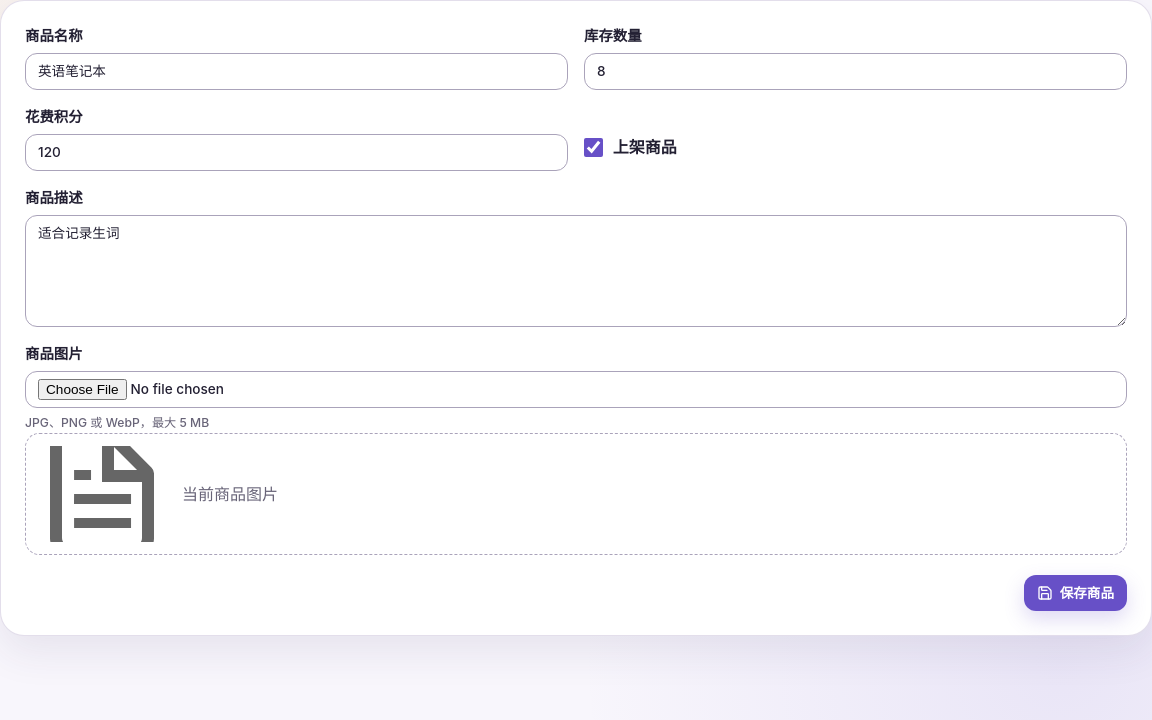
管理员商品表单 › 下架确认失败保留弹窗并展示错误，可重试
Click the checkbox labelled "上架商品": [594, 147] box [584,138,603,157]
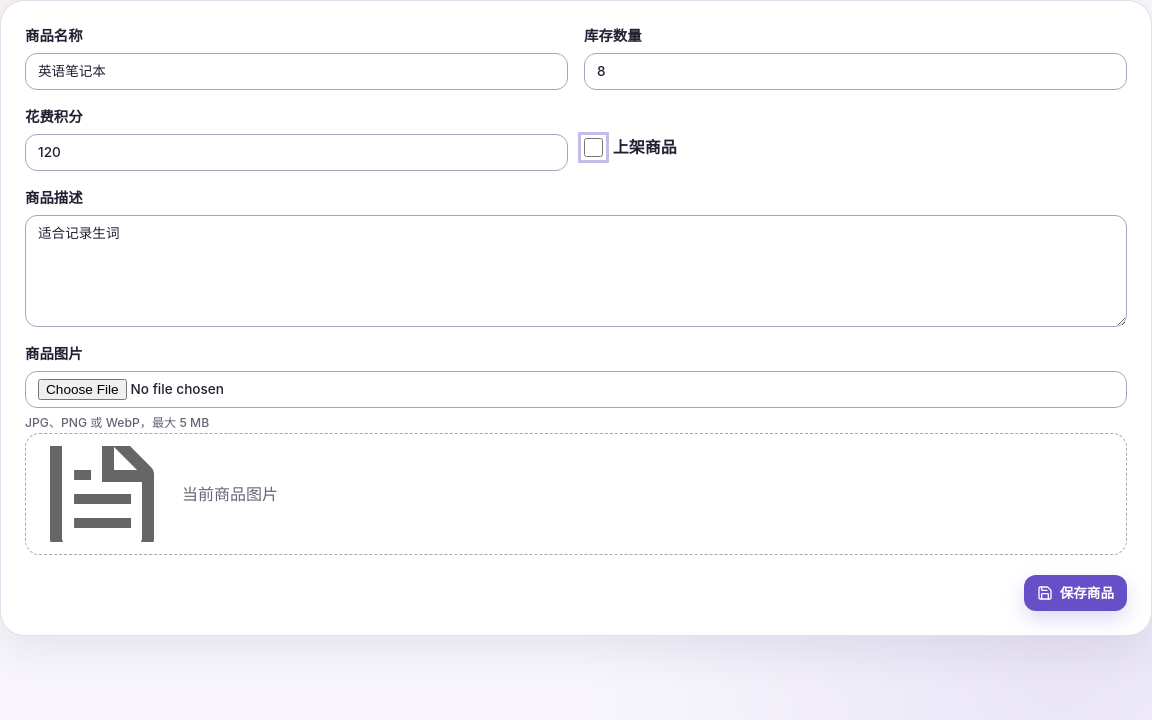
Click the button "保存商品": [1076, 593] box [1024,574,1127,611]
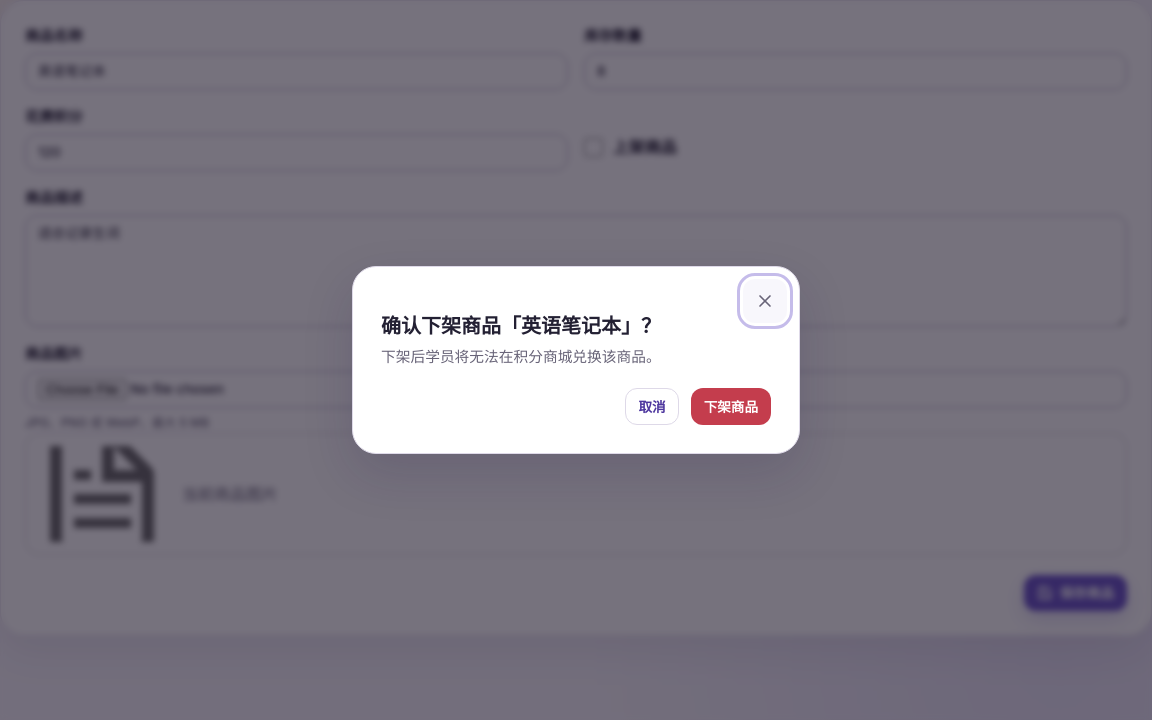
Click the button "下架商品": [731, 407] box [691,388,771,425]
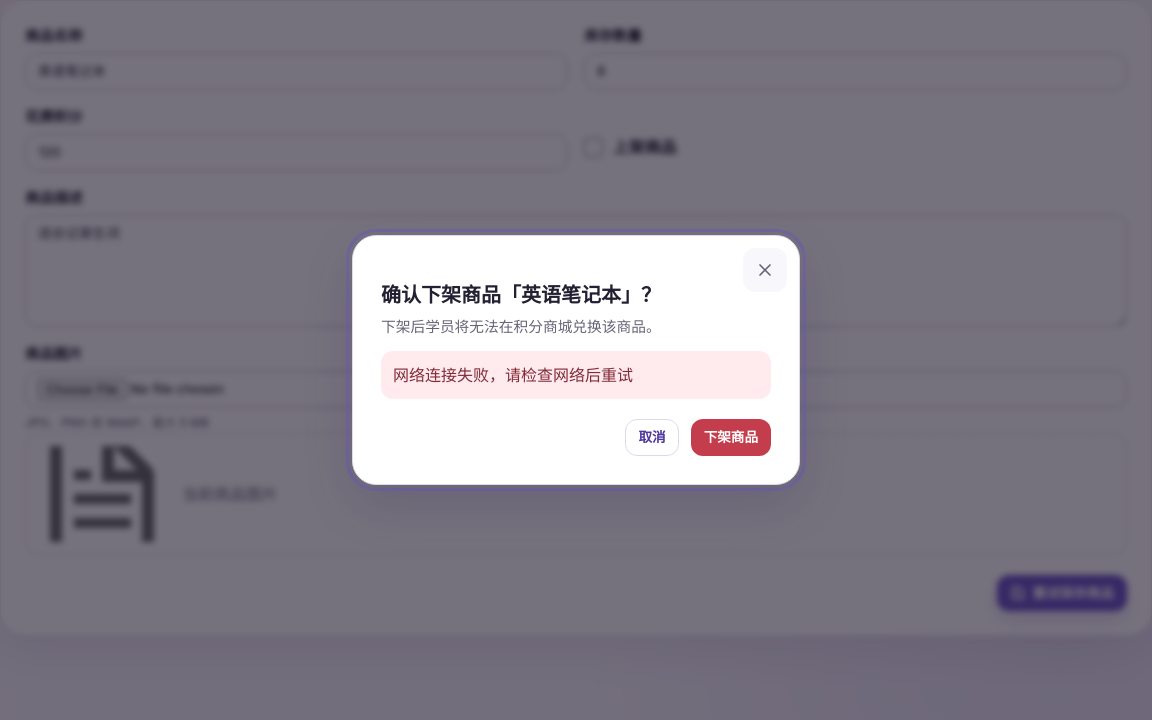
Result: the dialog "确认下架商品「英语笔记本」？" is shown at [352,235,800,485]
Result: the message reads "网络连接失败，请检查网络后重试" at [393,365,633,385]
Click the button "下架商品": [731, 438] box [691,419,771,456]
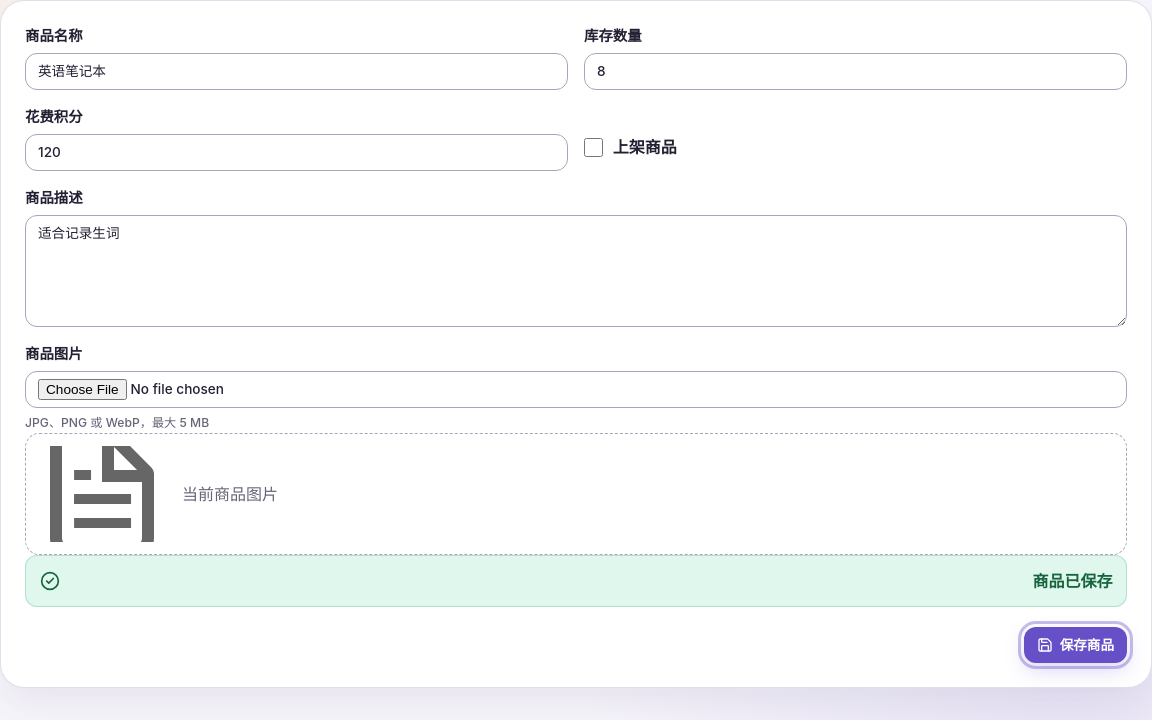
Result: the heading "确认下架商品" is gone
